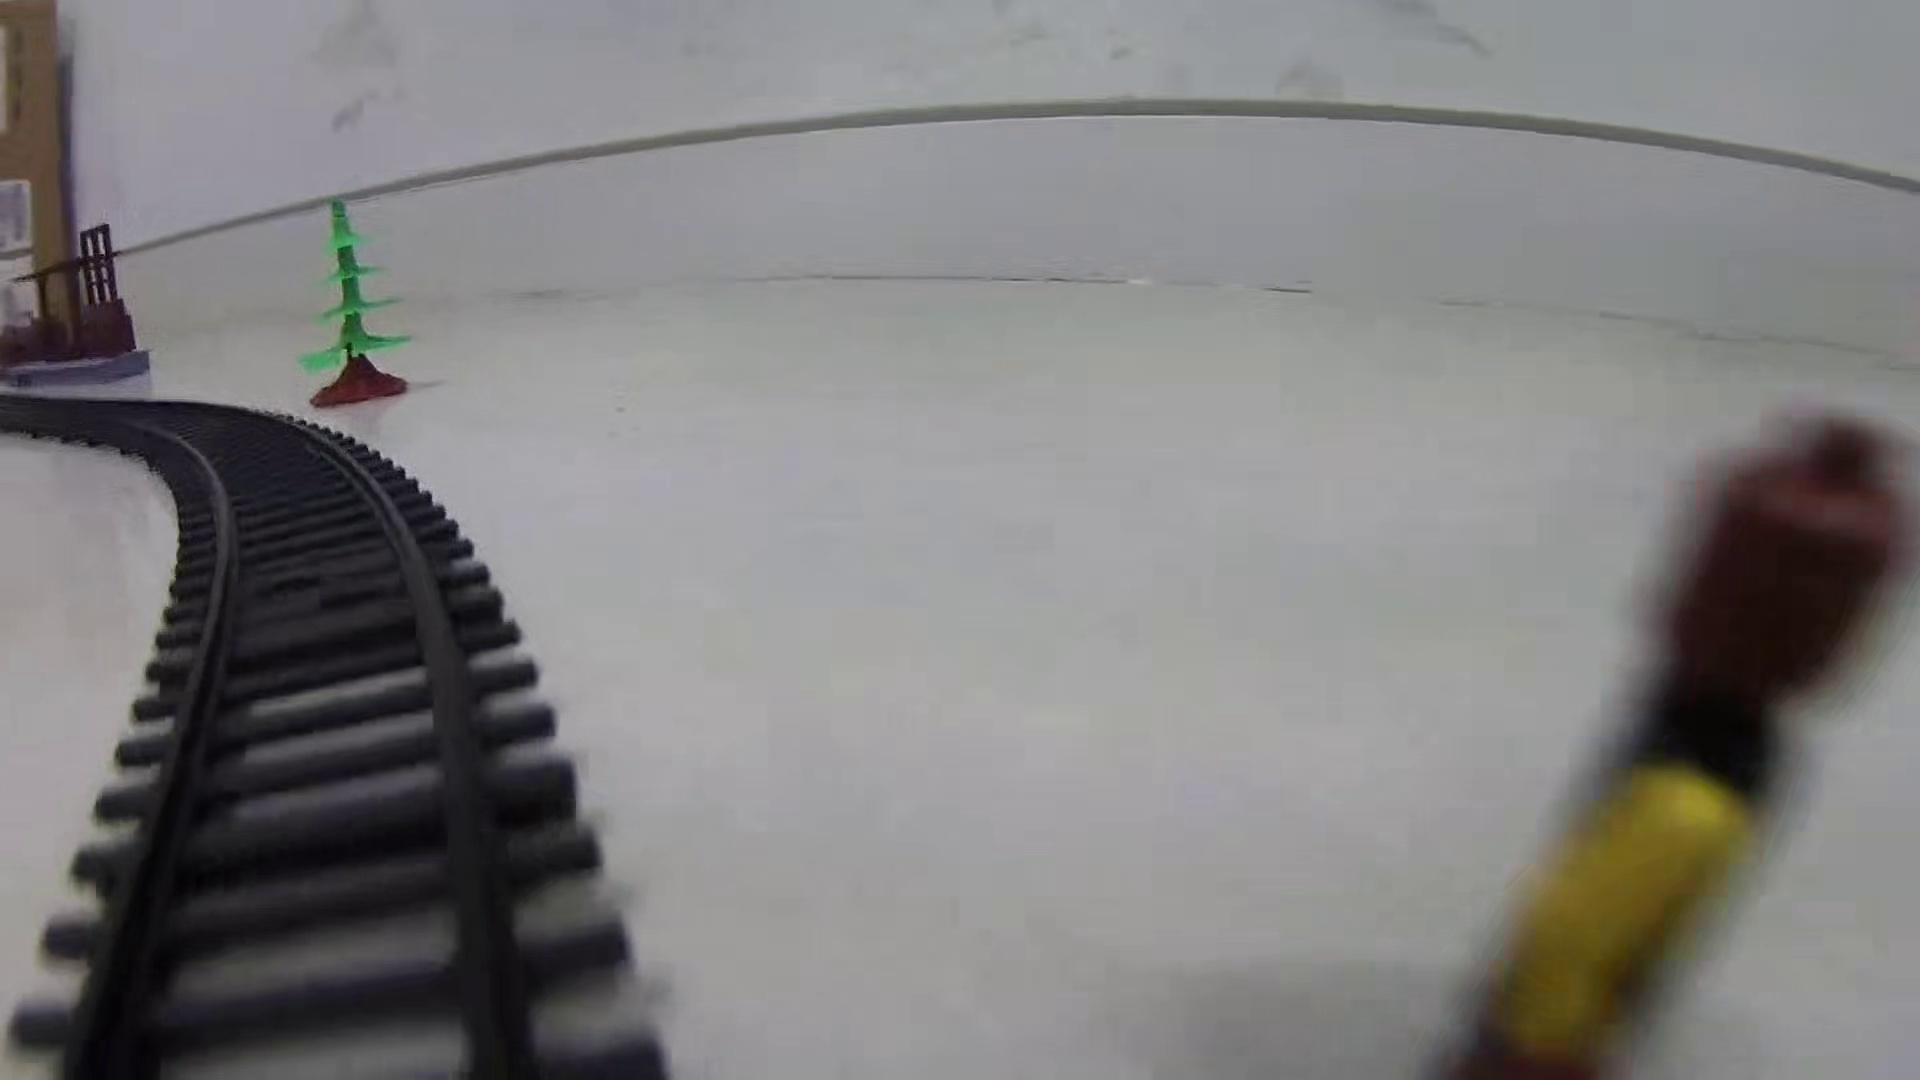people: (1418, 403, 1920, 1078)
tree: (296, 200, 422, 406)
